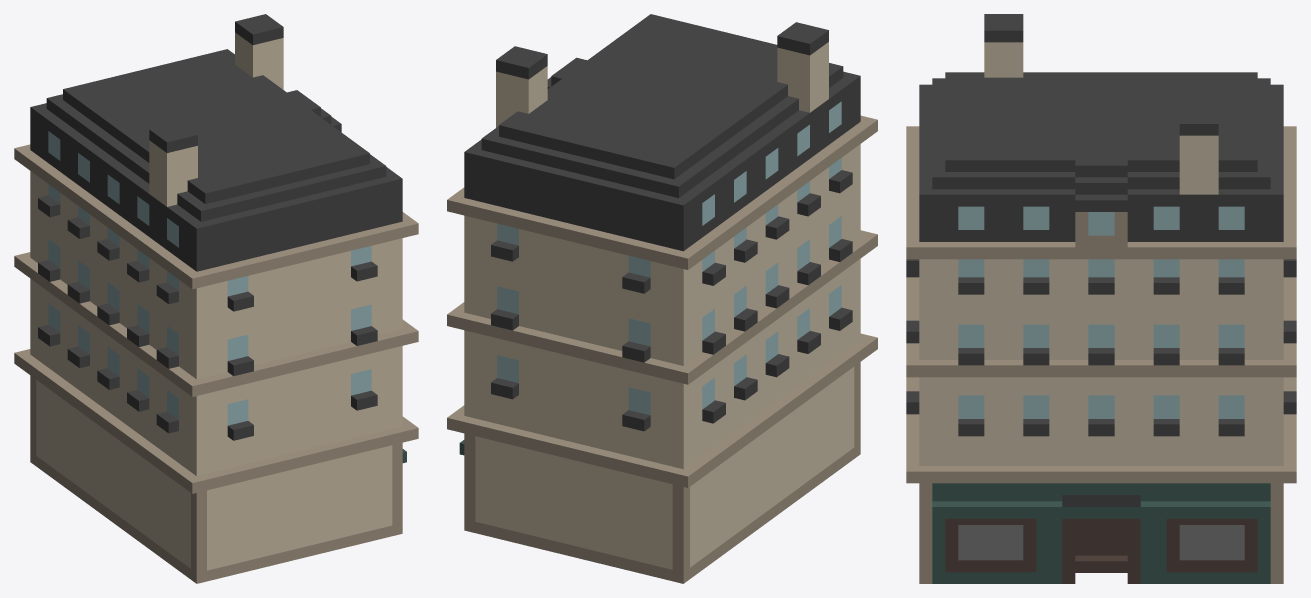
File: Commerce_01.obj
The picture shows the model from 3 angles, left to right: view 1: azimuth 30°, elevation 25°; view 2: azimuth 150°, elevation 25°; view 3: azimuth 270°, elevation 25°; orthographic projection. The views are drawn at different scales.
Parts seen in each view (by area): view 1: Commerce_01; view 2: Commerce_01; view 3: Commerce_01.
Boxes of the visible parts, x1,y1,x2,y2 form: Commerce_01: (14,14,418,583); Commerce_01: (447,14,877,583); Commerce_01: (906,14,1296,583).
Size of the model in its own units: 22 by 39 by 30.
1 material, 1 textured.
